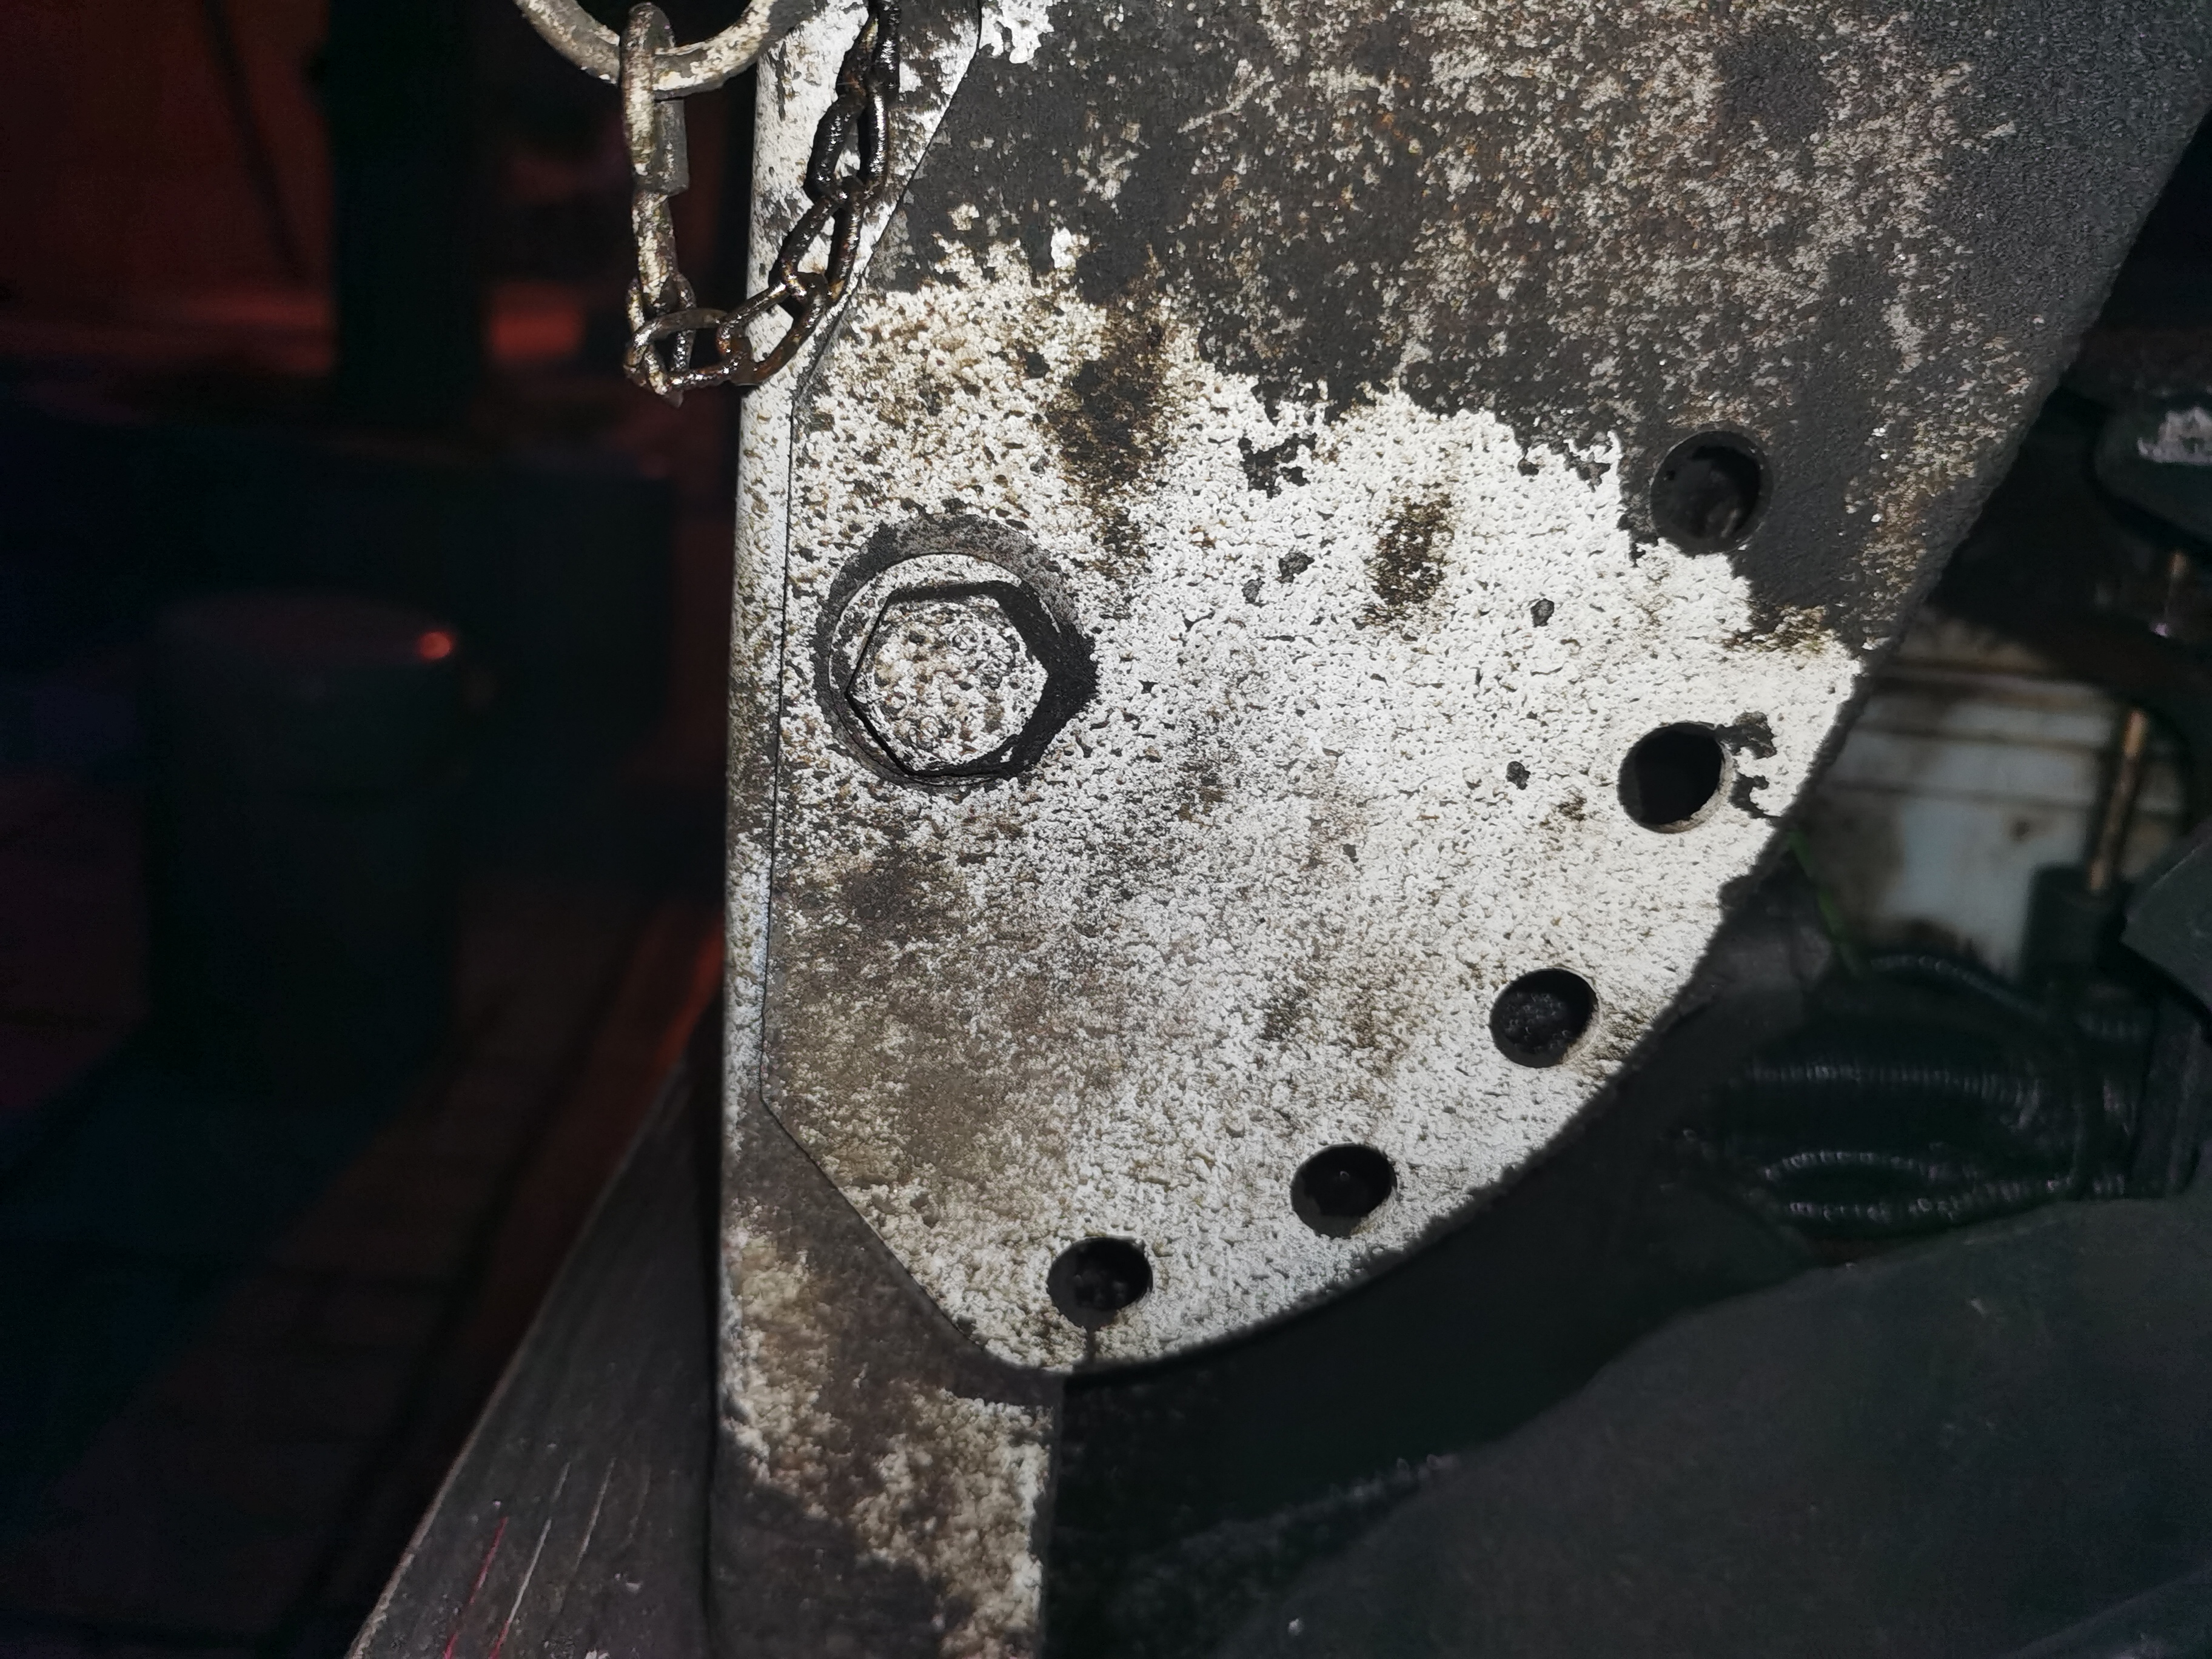bolt_a: (836, 568, 1064, 789)
